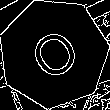O_SE: (22, 20, 86, 87)
